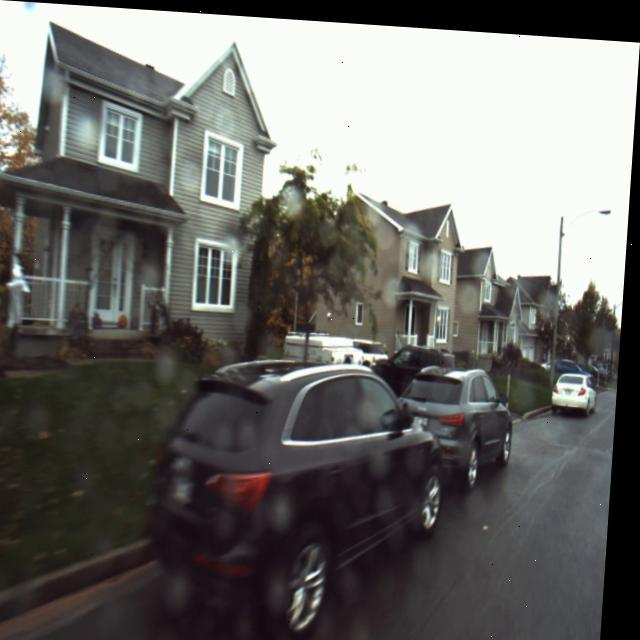car: (404, 351, 526, 497)
